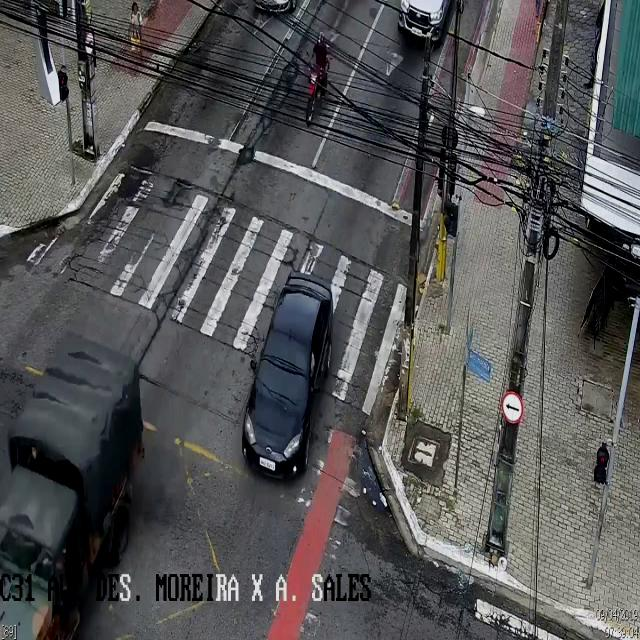Car: (241, 270, 333, 481), (390, 0, 469, 52)
Motorcycle: (305, 33, 329, 124)
Truck: (2, 331, 144, 639)
